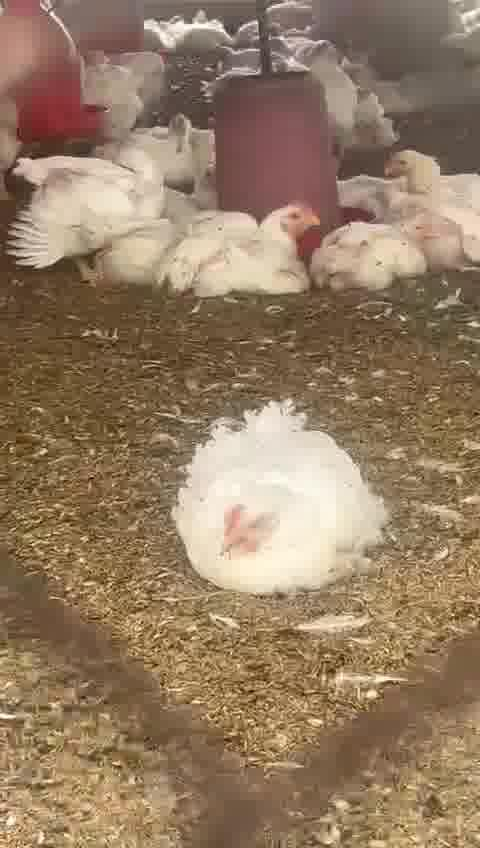AbNormal: (182, 399, 382, 592), (188, 204, 324, 300), (380, 152, 480, 260)
